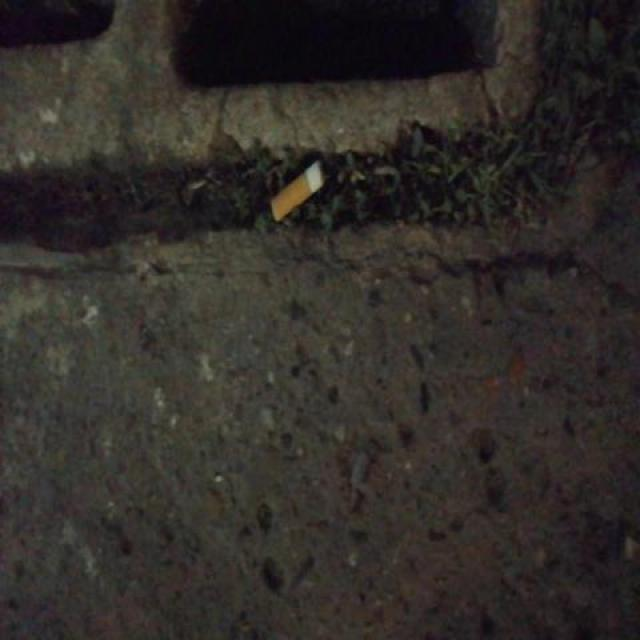non-organic waste: (264, 154, 329, 227)
